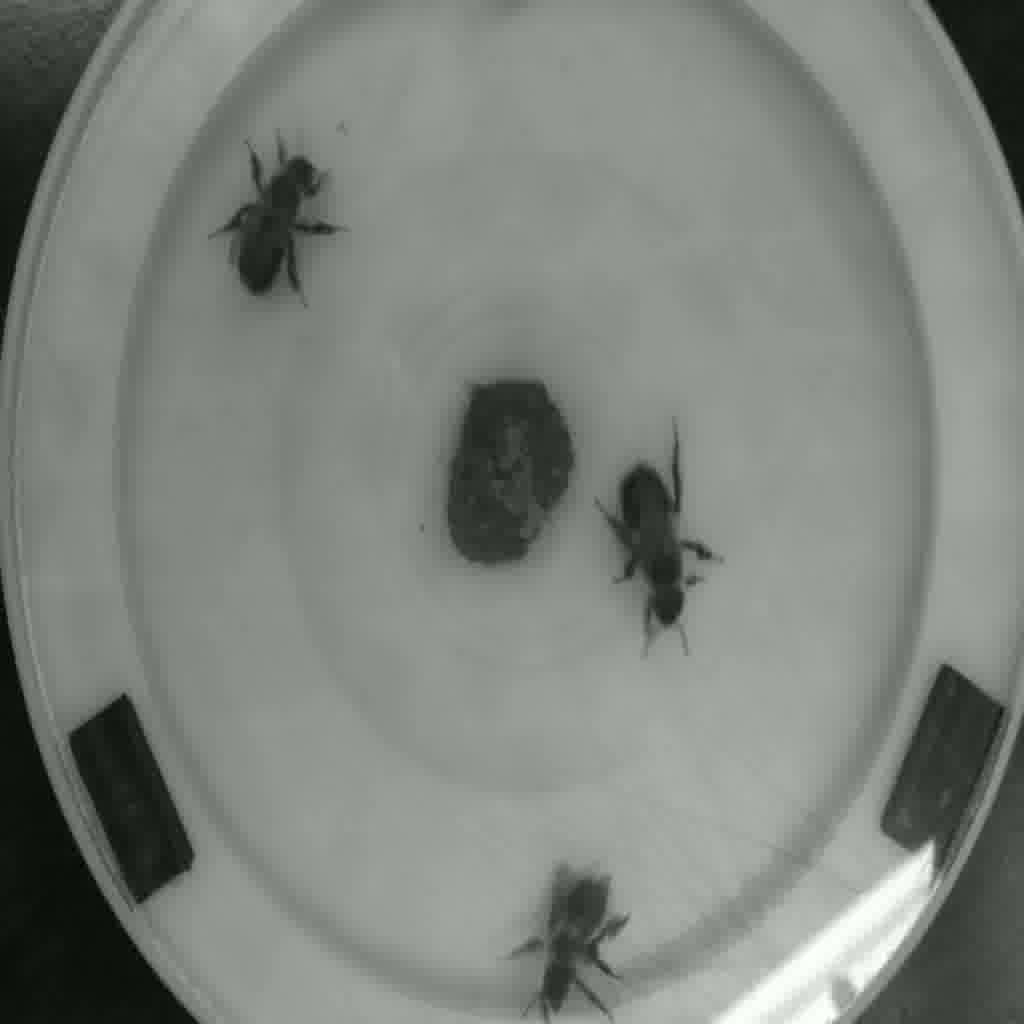bee: (598, 447, 710, 619), (217, 133, 326, 308), (514, 880, 634, 1022)
